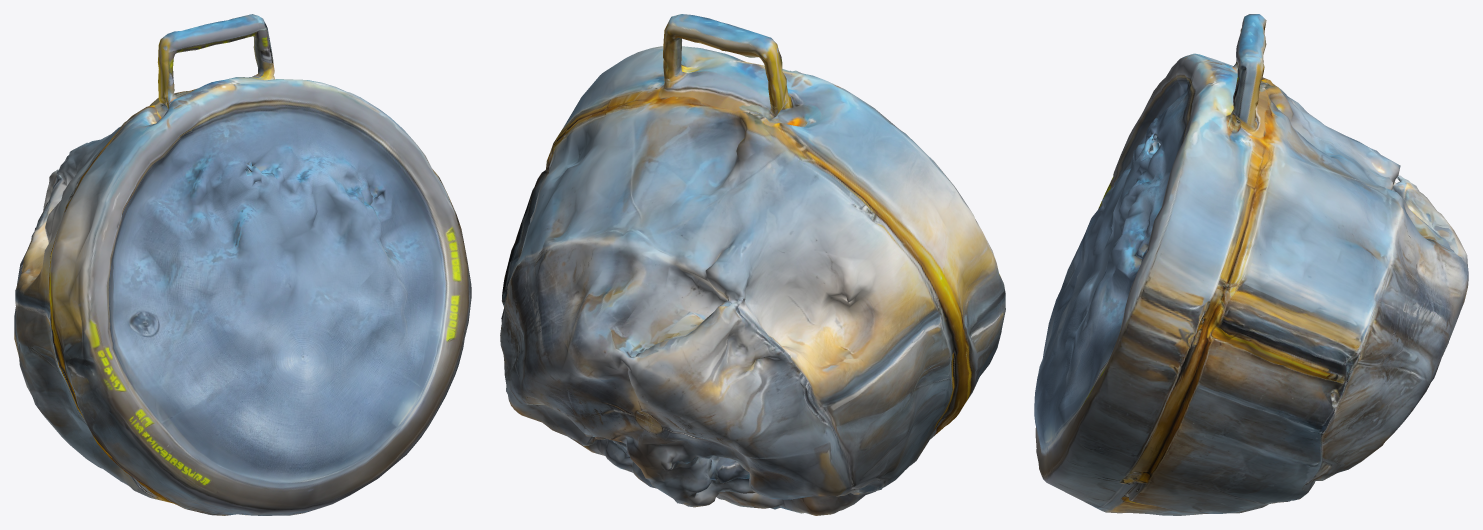
The model's file is Big_Spotlight_0805112335_refine.fbx.
The picture shows the model from 3 angles, left to right: view 1: azimuth 30°, elevation 25°; view 2: azimuth 150°, elevation 25°; view 3: azimuth 270°, elevation 25°; orthographic projection. The views are drawn at different scales.
Parts seen in each view (by area): view 1: Mesh_0; view 2: Mesh_0; view 3: Mesh_0.
Part boxes in pixels (x1=…): Mesh_0: x1=14, y1=14, x2=471, y2=515; Mesh_0: x1=500, y1=14, x2=1005, y2=515; Mesh_0: x1=1034, y1=14, x2=1468, y2=515.
Bounding box in the file's own units: 108 × 120 × 100.
Materials: 1 (1 with a texture image).
